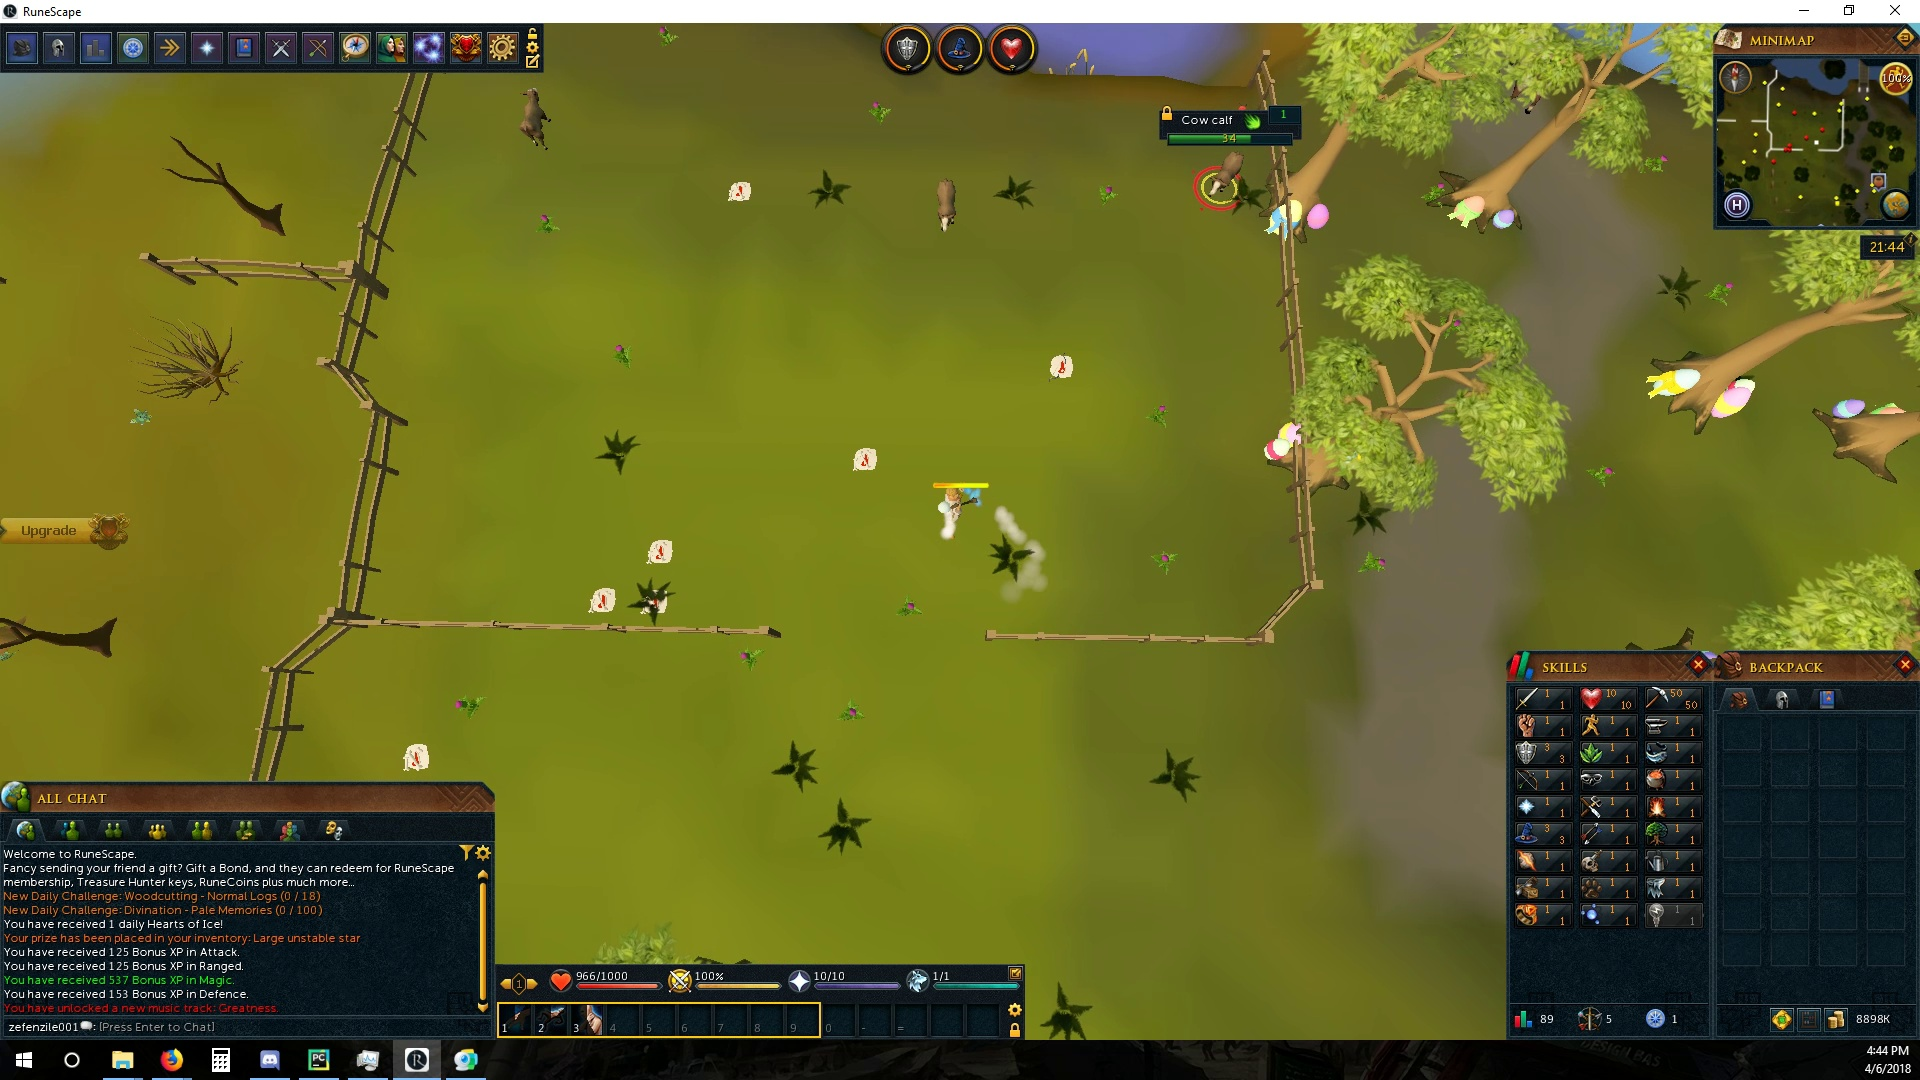calf: (516, 88, 555, 150), (1207, 150, 1245, 200), (934, 178, 961, 232)
cow_drop: (1043, 352, 1079, 384), (851, 444, 882, 473), (644, 535, 675, 564), (585, 585, 617, 615), (402, 742, 431, 774), (727, 179, 756, 204)
